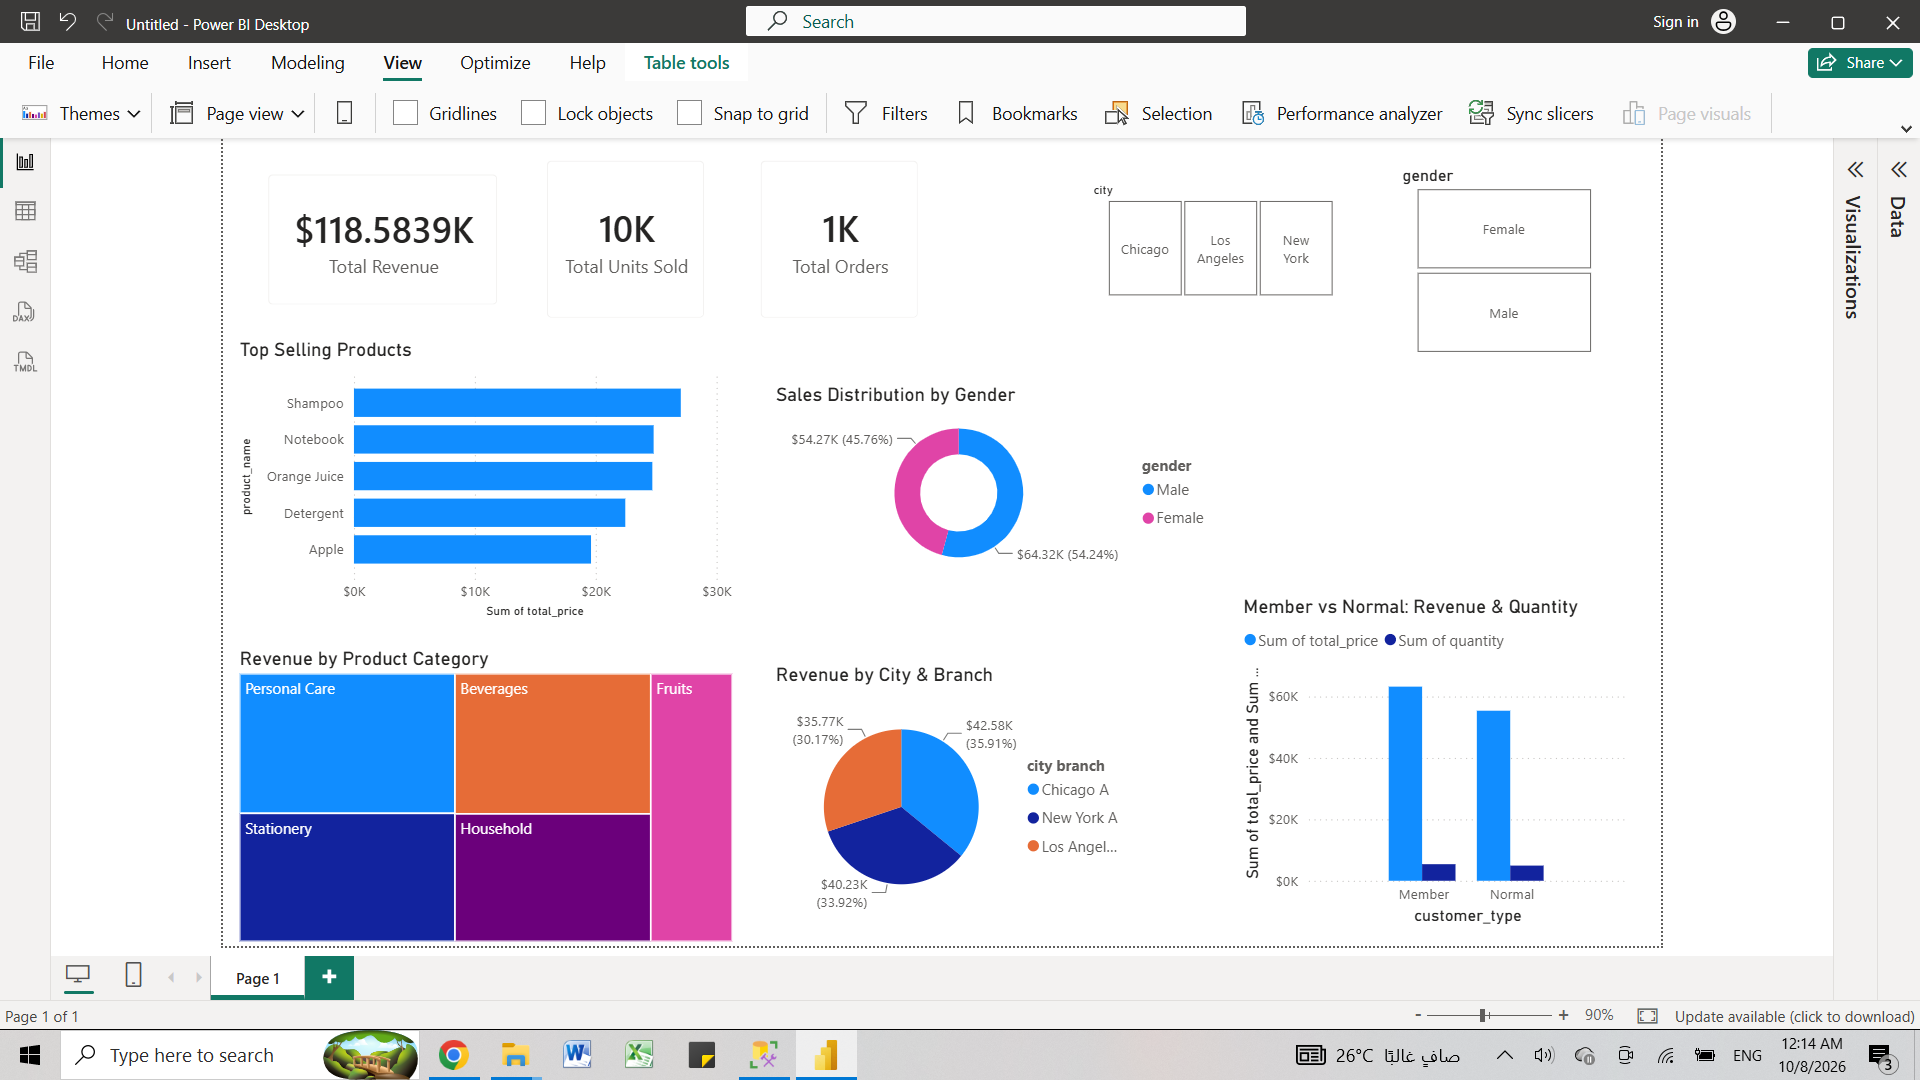

The page's visual inventory and layout, read from the dashboard file:
{"tool":"powerbi","page":{"name":"Page 1","canvas":[1280,720],"ordinal":0},"visuals":[{"type":"cardVisual","fields":{"Data":["Sum(Query1.total_price)"]},"box":[23.3,15.1,238.8,150.9],"z":0},{"type":"cardVisual","fields":{"Data":["CountNonNull(Query1.sales_id)"]},"box":[461.8,3.4,174.3,174.3],"z":1},{"type":"cardVisual","fields":{"Data":["Sum(Query1.quantity)"]},"box":[271.7,3.4,174.3,174.3],"z":3},{"type":"clusteredBarChart","title":"Top Selling Products","fields":{"Y":["Sum(Query1.total_price)"],"Category":["Query1.product_name"]},"box":[9.6,178.4,448.7,253.9],"z":4},{"type":"pieChart","title":"Revenue by City & Branch","fields":{"Category":["Query1.city","Query1.branch"],"Y":["Sum(Query1.total_price)"]},"box":[487.1,467.9,329.3,237.4],"z":5},{"type":"clusteredColumnChart","title":"Member vs Normal: Revenue & Quantity","fields":{"Category":["Query1.customer_type"],"Y":["Sum(Query1.total_price)","Sum(Query1.quantity)"]},"box":[904.3,407.5,351.3,297.8],"z":6},{"type":"treemap","title":"Revenue by Product Category","fields":{"Group":["Query1.product_category"],"Values":["Sum(Query1.total_price)"]},"box":[9.6,452.8,448.7,267.6],"z":7},{"type":"donutChart","title":"Sales Distribution by Gender","fields":{"Y":["Sum(Query1.total_price)"],"Category":["Query1.gender"]},"box":[487.1,218.2,400.7,177],"z":8},{"type":"slicer","fields":{"Values":["Query1.city"]},"box":[763,34.3,249.7,112.5],"z":9},{"type":"slicer","fields":{"Values":["Query1.gender"]},"box":[1037.4,20.6,204.5,177],"z":10}]}

Visuals, with their boxes on the page's 1280x720 design canvas (x1, y1, x2, y2). These are canvas units, not pixel positions in the 1920x1080 screenshot, which may show the page scaled, cropped or inside an application window:
cardVisual - Sum(Query1.total_price): <bbox>23, 15, 262, 166</bbox>
cardVisual - CountNonNull(Query1.sales_id): <bbox>462, 3, 636, 178</bbox>
cardVisual - Sum(Query1.quantity): <bbox>272, 3, 446, 178</bbox>
"Top Selling Products" clusteredBarChart: <bbox>10, 178, 458, 432</bbox>
"Revenue by City & Branch" pieChart: <bbox>487, 468, 816, 705</bbox>
"Member vs Normal: Revenue & Quantity" clusteredColumnChart: <bbox>904, 408, 1256, 705</bbox>
"Revenue by Product Category" treemap: <bbox>10, 453, 458, 720</bbox>
"Sales Distribution by Gender" donutChart: <bbox>487, 218, 888, 395</bbox>
slicer - Query1.city: <bbox>763, 34, 1013, 147</bbox>
slicer - Query1.gender: <bbox>1037, 21, 1242, 198</bbox>
